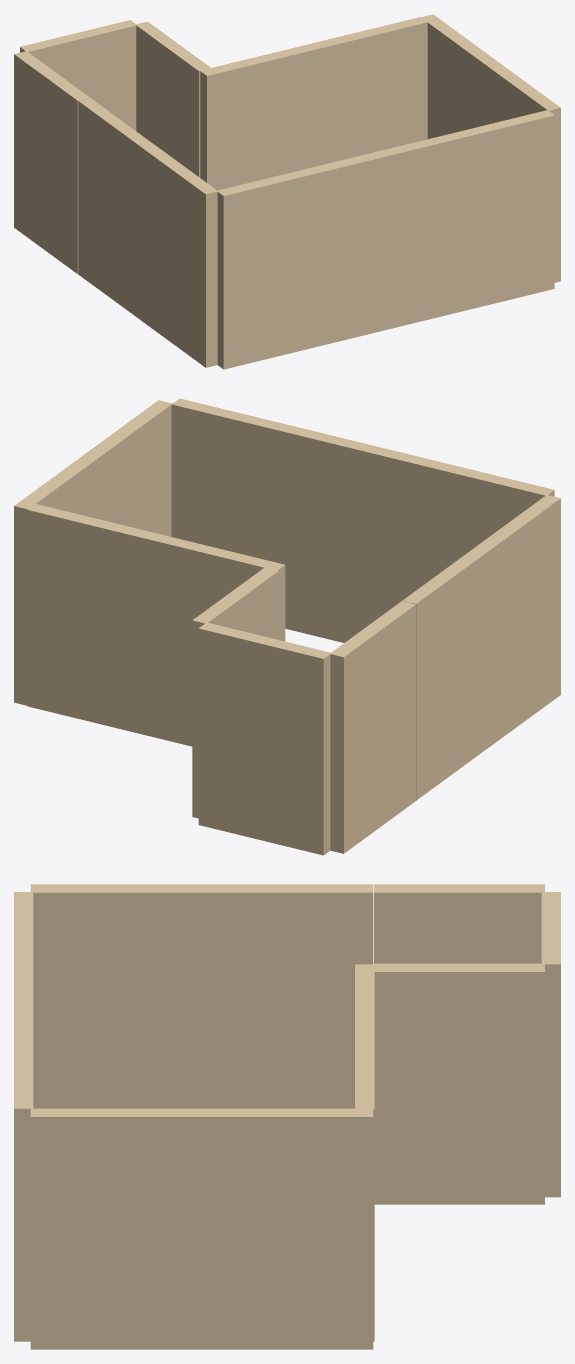
3 renders of one model, top to bottom at view 1: azimuth 30°, elevation 25°; view 2: azimuth 150°, elevation 25°; view 3: azimuth 270°, elevation 25°, orthographic. The views are drawn at different scales.
Parts seen in each view (by area): view 1: Cube.013, Cube.012, Cube.014, Cube.011, Cube.007, Cube.010, Cube.017, Cube.008, Cube.015, Cube.009, Cube.016, Cube.005; view 2: Cube.009, Cube.010, Cube.012, Cube.014, Cube.017, Cube.007, Cube.008, Cube.011, Cube.013, Cube.005, Cube.016, Cube.015; view 3: Cube.016, Cube.005, Cube.015, Cube.007, Cube.008, Cube.017, Cube.014, Cube.009, Cube.010, Cube.011, Cube.013, Cube.012.
Boxes of the visible parts, x1=… form: Cube.013: x1=217, y1=164, x2=334, y2=369; Cube.012: x1=327, y1=137, x2=444, y2=342; Cube.014: x1=437, y1=110, x2=554, y2=315; Cube.011: x1=200, y1=44, x2=317, y2=190; Cube.007: x1=142, y1=144, x2=217, y2=367; Cube.010: x1=310, y1=17, x2=427, y2=165; Cube.017: x1=14, y1=51, x2=89, y2=273; Cube.008: x1=78, y1=98, x2=153, y2=320; Cube.015: x1=136, y1=21, x2=210, y2=177; Cube.009: x1=20, y1=20, x2=136, y2=130; Cube.016: x1=421, y1=14, x2=496, y2=138; Cube.005: x1=484, y1=61, x2=560, y2=282; Cube.009: x1=198, y1=622, x2=330, y2=855; Cube.010: x1=27, y1=504, x2=160, y2=736; Cube.012: x1=296, y1=429, x2=428, y2=642; Cube.014: x1=171, y1=398, x2=304, y2=631; Cube.017: x1=330, y1=601, x2=415, y2=853; Cube.007: x1=474, y1=495, x2=560, y2=747; Cube.008: x1=402, y1=548, x2=488, y2=800; Cube.011: x1=152, y1=534, x2=285, y2=746; Cube.013: x1=421, y1=459, x2=554, y2=586; Cube.005: x1=87, y1=400, x2=172, y2=536; Cube.016: x1=14, y1=453, x2=100, y2=705; Cube.015: x1=192, y1=567, x2=278, y2=818; Cube.016: x1=202, y1=1108, x2=373, y2=1349; Cube.005: x1=30, y1=1108, x2=201, y2=1349; Cube.015: x1=374, y1=963, x2=544, y2=1204; Cube.007: x1=30, y1=884, x2=201, y2=1108; Cube.008: x1=202, y1=884, x2=373, y2=1108; Cube.017: x1=374, y1=884, x2=544, y2=963; Cube.014: x1=14, y1=1036, x2=33, y2=1341; Cube.009: x1=541, y1=892, x2=560, y2=1197; Cube.010: x1=355, y1=1036, x2=374, y2=1341; Cube.011: x1=355, y1=964, x2=374, y2=1036; Cube.013: x1=14, y1=892, x2=33, y2=964; Cube.012: x1=14, y1=964, x2=33, y2=1036.
Bounding box in the file's own units: 1.93 × 1.92 × 0.9.
